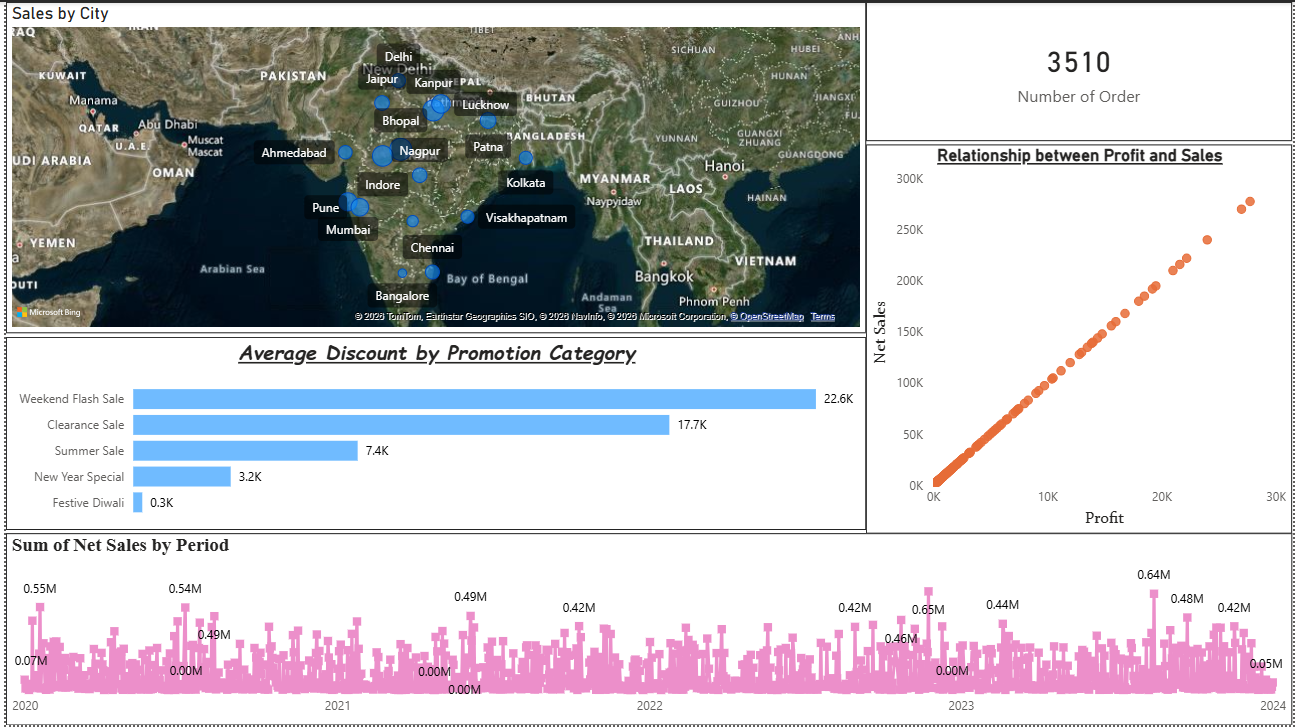

Layout of this report page (visuals, bound fields, positions):
{"tool":"powerbi","page":{"name":"OverView","canvas":[1280,720],"ordinal":0},"visuals":[{"type":"lineChart","title":"Sum of Net Sales by Period","fields":{"Y":["Sum(Fact Table.Net Sales)"],"Category":["Fact Table.Date (dd/mm/yyyy).Variation.Date Hierarchy.Year"]},"box":[0,528.7,1280,191.6],"z":0},{"type":"scatterChart","title":"Relationship between Profit and Sales","fields":{"Y":["Fact Table.Net Sales"],"X":["Fact Table.Profit"]},"box":[855.8,141.8,424.2,386.9],"z":1000},{"type":"barChart","title":"Average Discount by Promotion  Category","fields":{"Y":["Avg(Fact Table.Discount Value)"],"Category":["Dim Promotion.Promotion Name"]},"box":[0,333.7,855.8,191.9],"z":2000},{"type":"map","title":"Sales by City","fields":{"Category":["Dim Customers.City"],"Size":["Sum(Fact Table.Net Sales)"]},"box":[0,0,855.8,329.6],"z":3000},{"type":"card","title":"Total Sales","fields":{"Values":["Count(Fact Table.Order ID)"]},"box":[855.8,0,424.2,138.1],"z":4000}]}

Visuals, with their boxes in screenshot pixels (x1, y1, x2, y2), scaled from the page's 1280x720 canvas onto the 1295x728 screenshot:
"Sum of Net Sales by Period" lineChart: [x1=0, y1=535, x2=1294, y2=727]
"Relationship between Profit and Sales" scatterChart: [x1=866, y1=143, x2=1294, y2=535]
"Average Discount by Promotion  Category" barChart: [x1=0, y1=337, x2=866, y2=531]
"Sales by City" map: [x1=0, y1=0, x2=866, y2=333]
"Total Sales" card: [x1=866, y1=0, x2=1294, y2=140]
